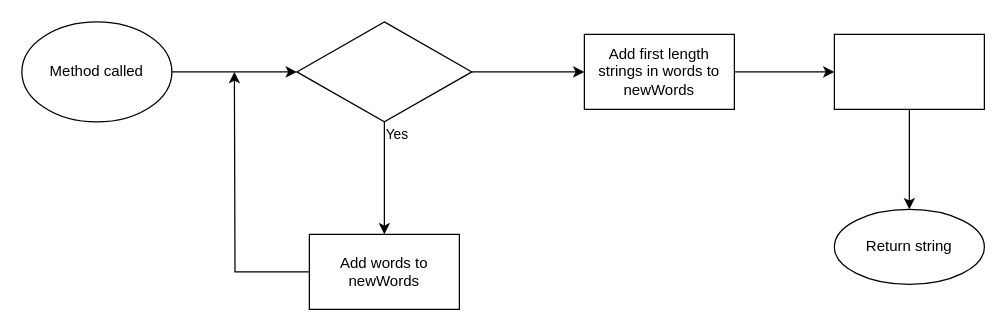
Image size: 1006x331. Some labels were removed from this diagram. The centre of each missing label's shape, as x and y in pixels:
Join items in newWords with spaces in between: (908,71)
len(words) < length?: (384,71)
